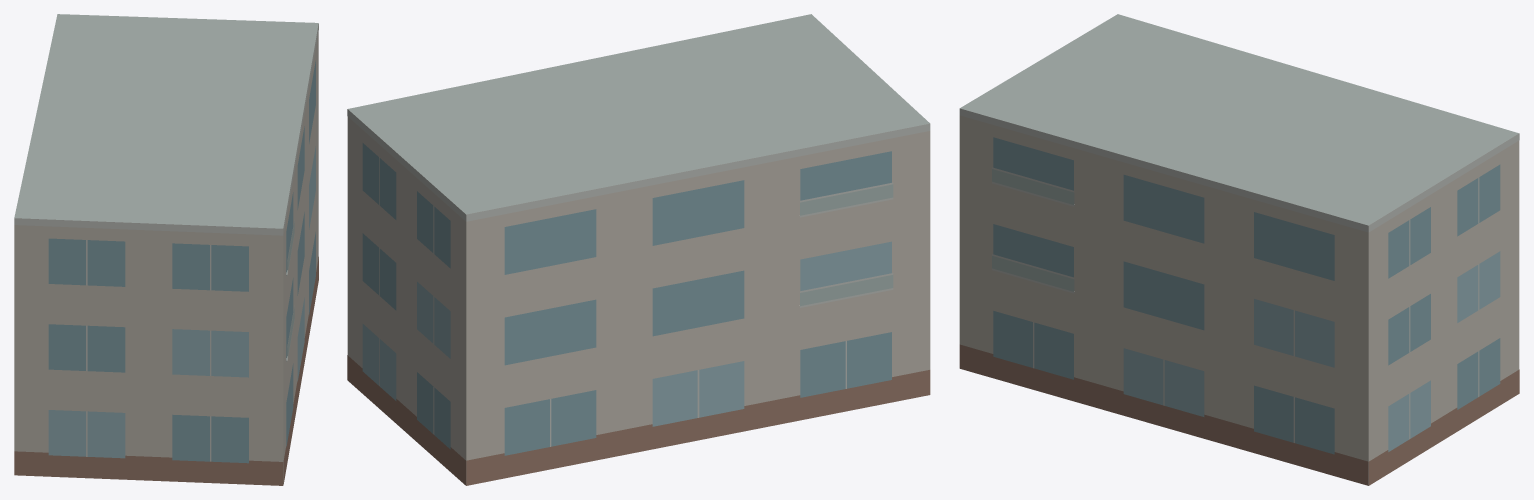
The model's file is survey-upis-33012989.glb.
3 renders of one model, left to right at view 1: azimuth 30°, elevation 25°; view 2: azimuth 150°, elevation 25°; view 3: azimuth 270°, elevation 25°, orthographic. The views are drawn at different scales.
Parts seen in each view (by area): view 1: survey-upis-33012989.tmp; view 2: survey-upis-33012989.tmp; view 3: survey-upis-33012989.tmp.
Boxes of the visible parts, x1,y1,x2,y2 form: survey-upis-33012989.tmp: (14, 14, 318, 485); survey-upis-33012989.tmp: (347, 14, 930, 485); survey-upis-33012989.tmp: (959, 14, 1519, 485).
Size of the model in its own units: 15.97 by 9.15 by 17.85.
